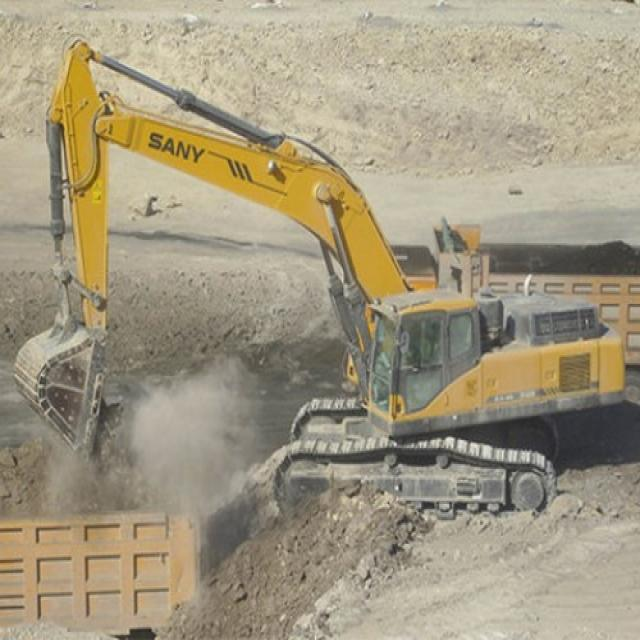excavator: (21, 40, 630, 510)
